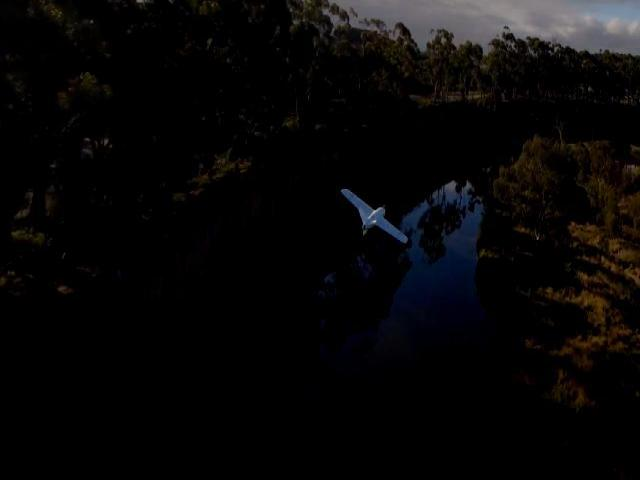iha: (341, 190, 407, 243)
